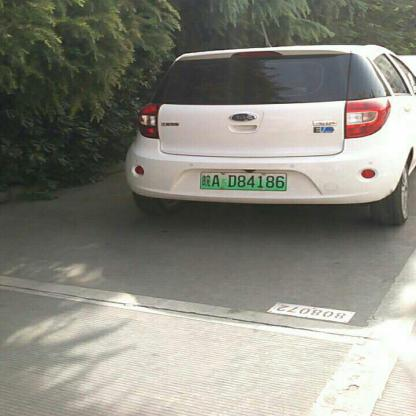lp: (200, 171, 286, 190)
